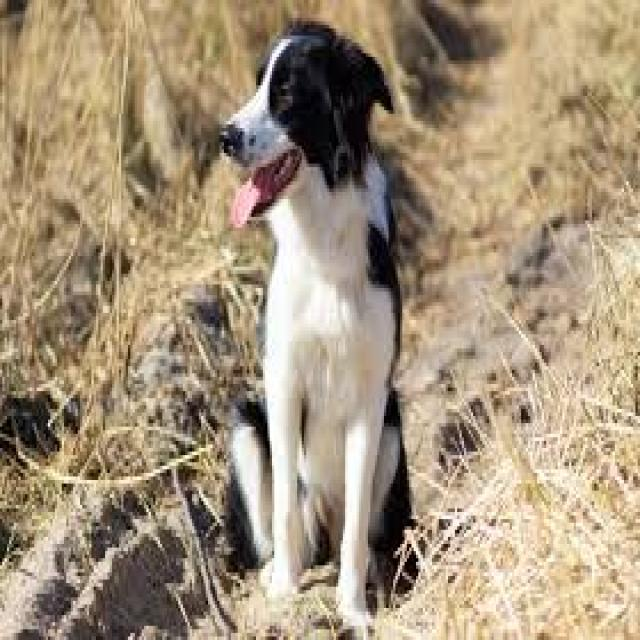ALASKAN_MALAMUTE: (195, 14, 435, 630)
